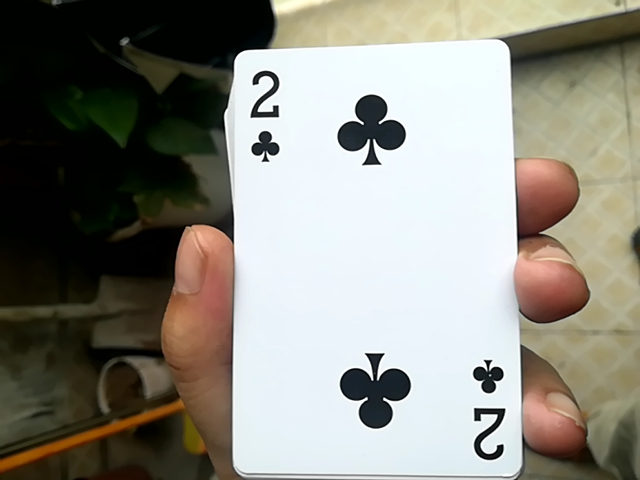mh 2: (219, 34, 523, 476)
